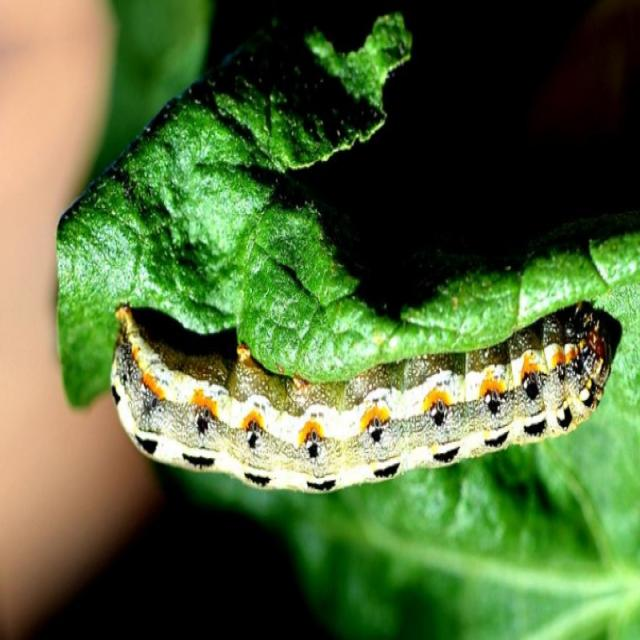Armyworm: (95, 256, 631, 499)
